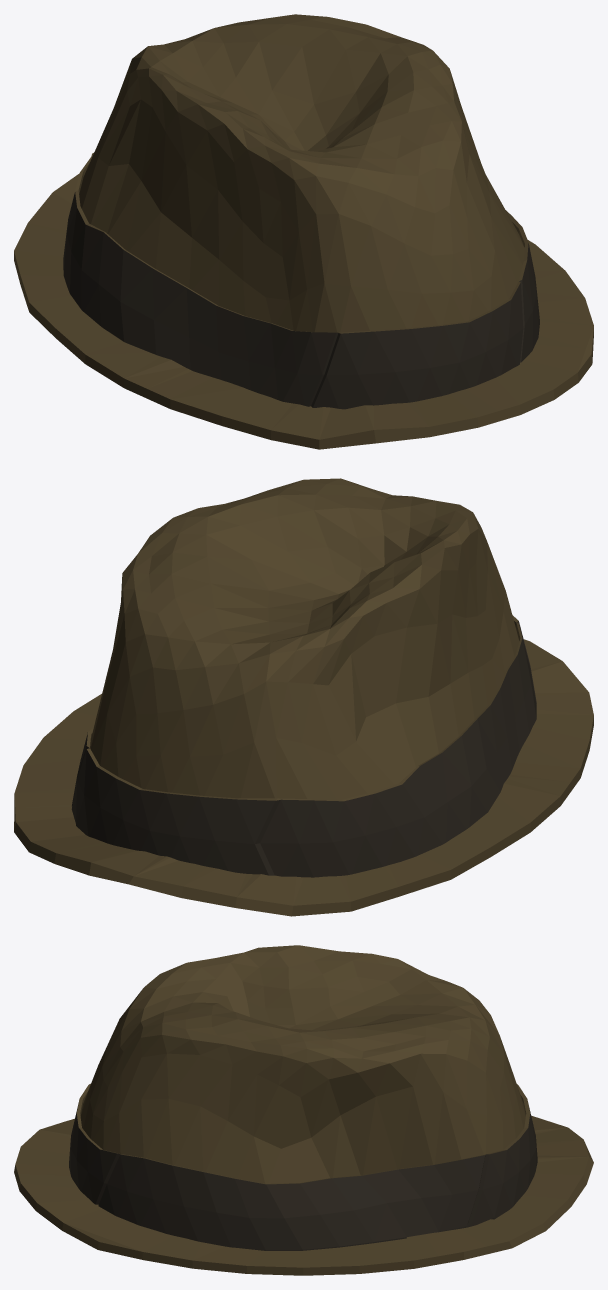
Rendered from Hat.fbx.
3 renders of one model, top to bottom at view 1: azimuth 30°, elevation 25°; view 2: azimuth 150°, elevation 25°; view 3: azimuth 270°, elevation 25°, orthographic. The views are drawn at different scales.
Visible parts, largest first — view 1: Icosphere, Cylinder; view 2: Icosphere, Cylinder; view 3: Icosphere, Cylinder.
Boxes of the visible parts, left/top/right/bottom form: Icosphere: left=63, top=14, right=539, bottom=409; Cylinder: left=14, top=173, right=593, bottom=449; Icosphere: left=71, top=478, right=536, bottom=877; Cylinder: left=14, top=639, right=593, bottom=916; Icosphere: left=69, top=945, right=537, bottom=1250; Cylinder: left=14, top=1115, right=593, bottom=1275.
Bounding box in the file's own units: 0.1328 × 0.1798 × 0.0681.
